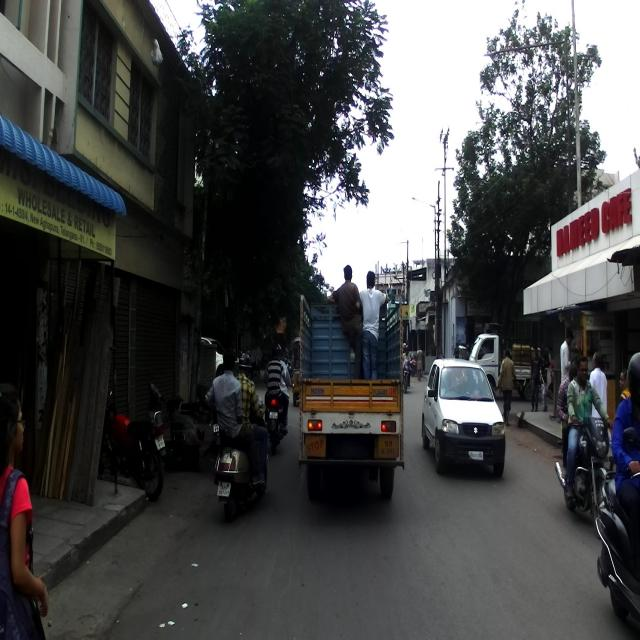car: (420, 358, 507, 478)
motorcycle: (98, 388, 166, 500), (552, 413, 614, 523), (264, 378, 294, 456)
scooter: (212, 394, 269, 525), (141, 377, 200, 464)
truck: (298, 278, 408, 505)
